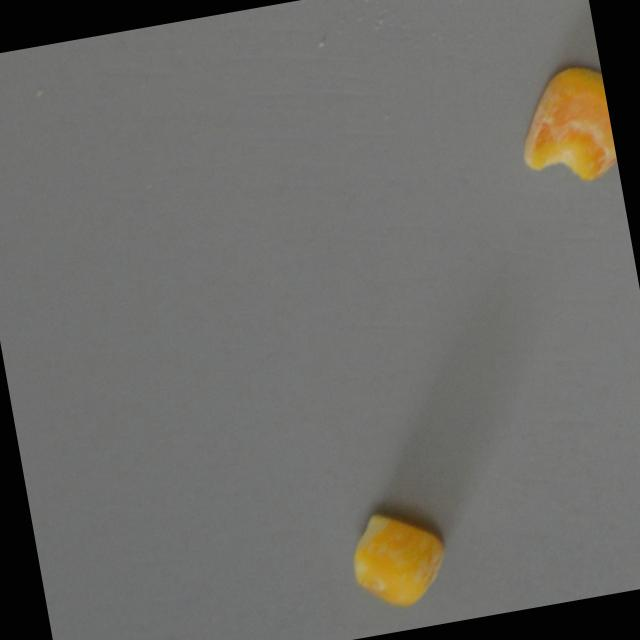pelicula: (508, 62, 620, 193), (342, 500, 457, 619)
